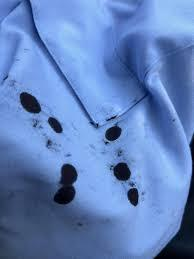ink: (54, 165, 77, 205), (21, 93, 41, 113), (113, 163, 131, 180), (106, 125, 122, 141), (128, 187, 139, 208), (48, 117, 61, 132)
